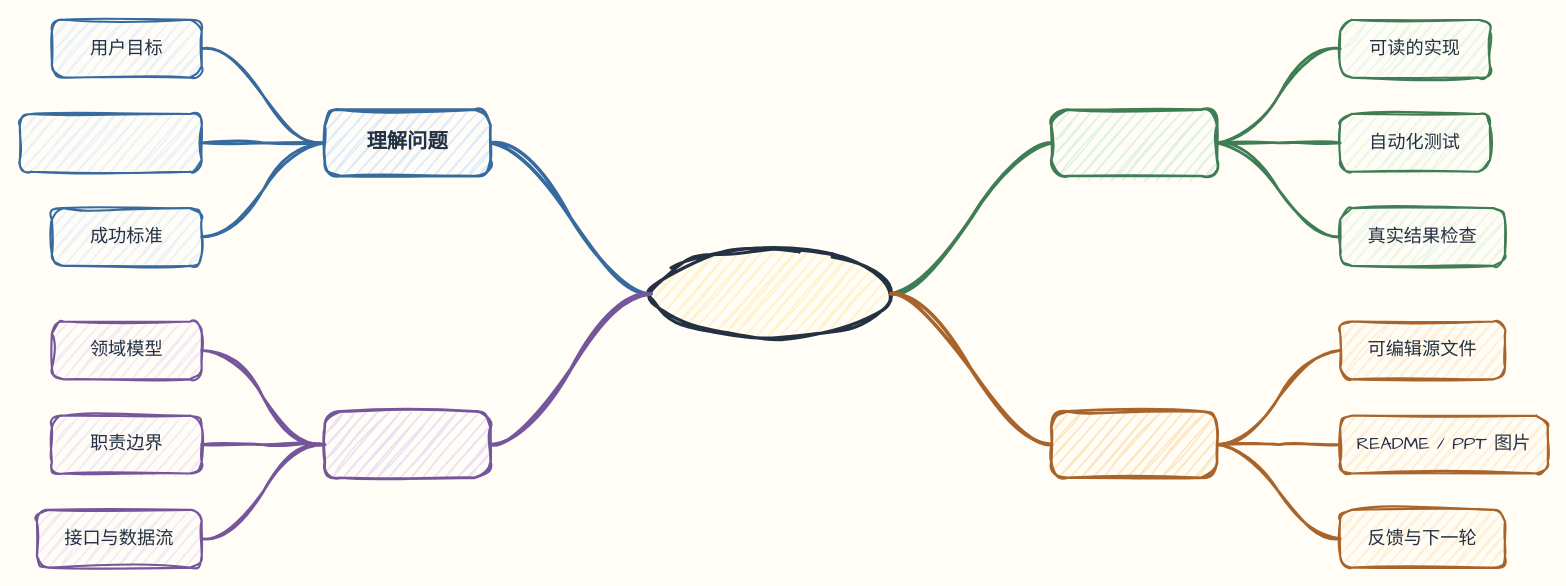
Image size: 1566x586. Some labels were removed from this diagram. Each missing label, with the centre of its shape:
"交付迭代" goes at [1133,444].
"从需求到交付" goes at [770,293].
"代码与文档证据" goes at [110,142].
"实现验证" goes at [1133,142].
"设计方案" goes at [407,444].
